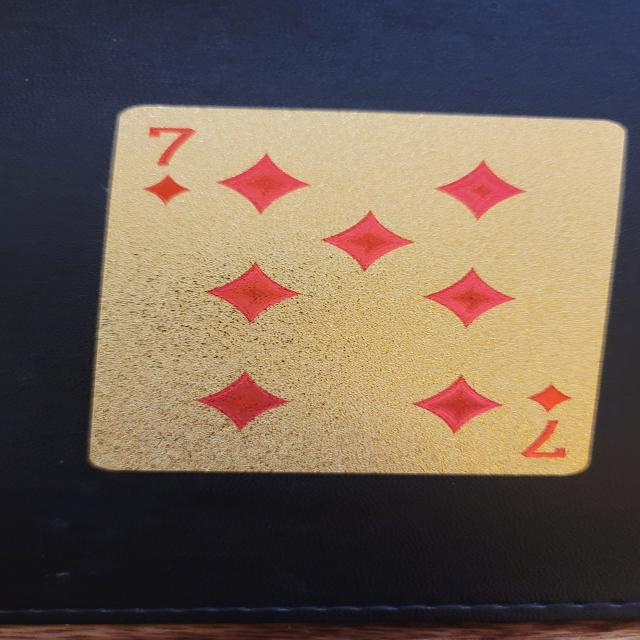7 of diamonds: (88, 105, 627, 478)
